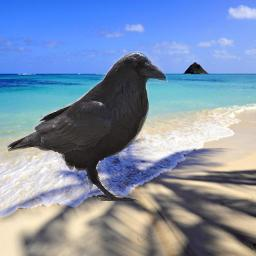Crow: (5, 51, 168, 201)
